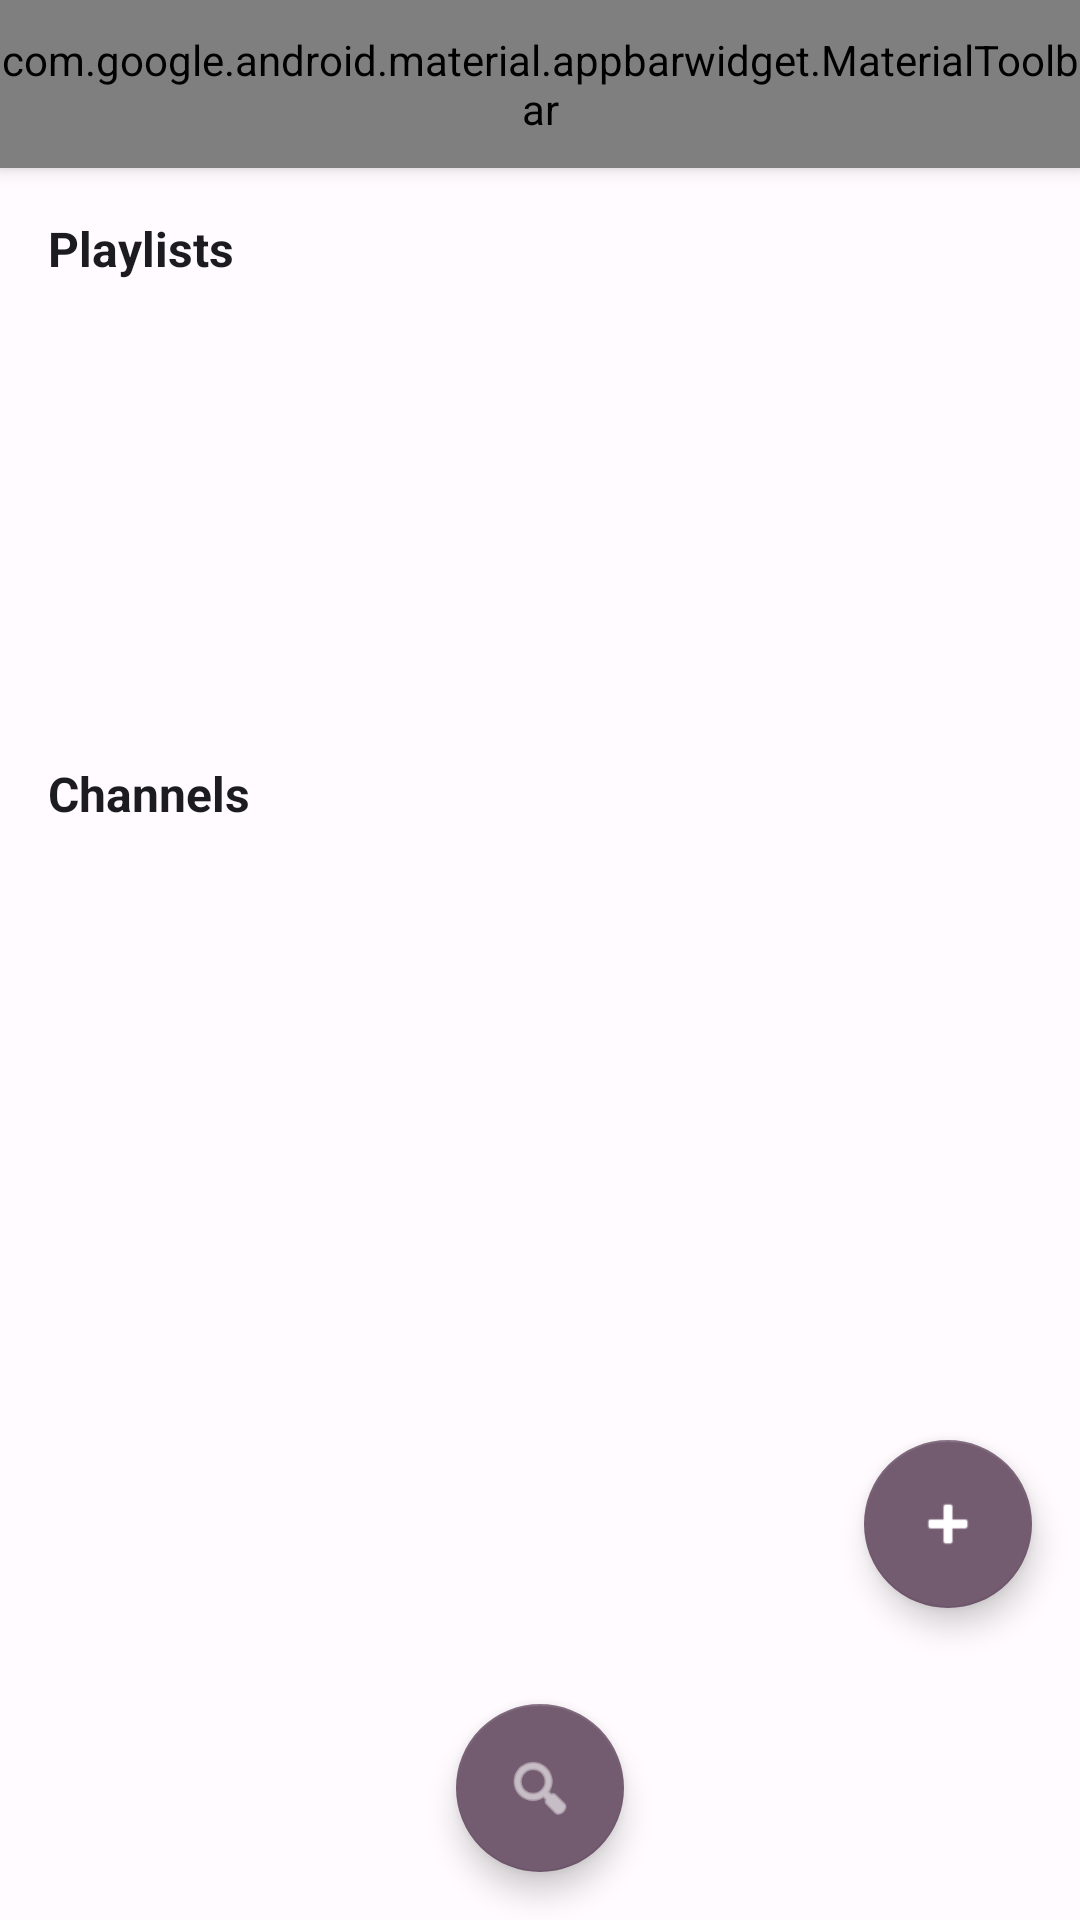

Screen size 1080 × 1920. Icon name, then its box in pixels as (x1, y1, x2, y2):
add: (864, 1440, 1032, 1608)
search: (456, 1704, 624, 1872)
